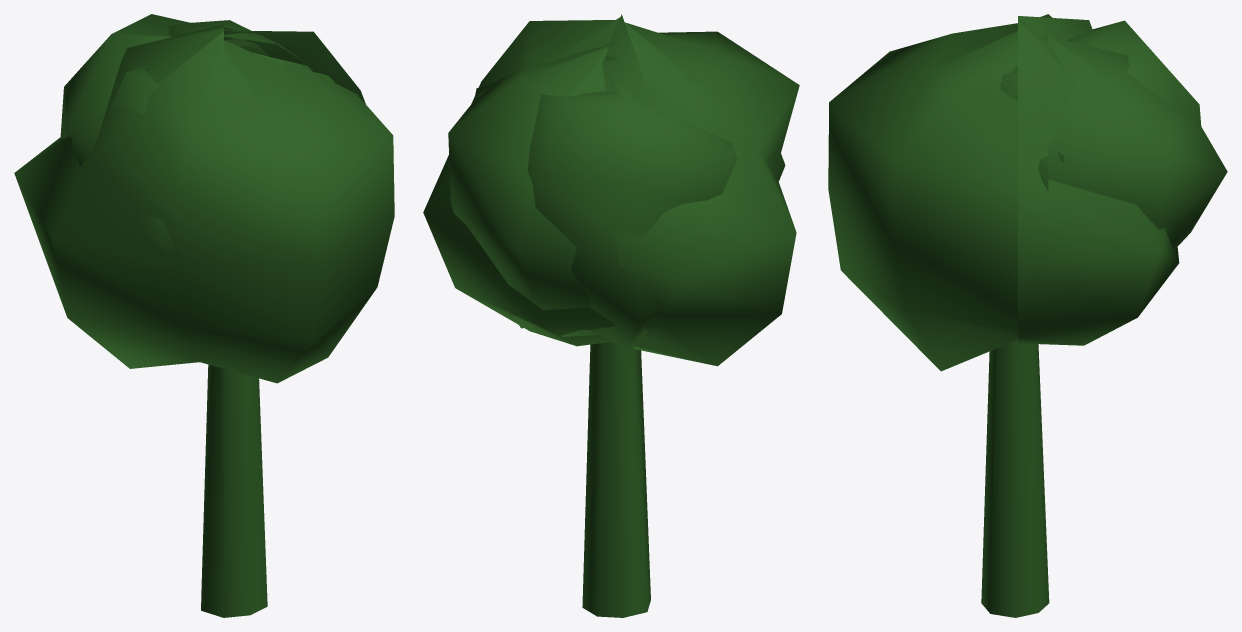
File: tree_yavin_02.obj
The picture shows the model from 3 angles, left to right: view 1: azimuth 30°, elevation 25°; view 2: azimuth 150°, elevation 25°; view 3: azimuth 270°, elevation 25°; orthographic projection. The views are drawn at different scales.
Visible parts, largest first — view 1: tree_yavin_02; view 2: tree_yavin_02; view 3: tree_yavin_02.
Boxes of the visible parts, bbox=[...] form: tree_yavin_02: bbox=[14, 14, 394, 617]; tree_yavin_02: bbox=[423, 14, 799, 617]; tree_yavin_02: bbox=[828, 14, 1227, 617].
Bounding box in the file's own units: 0.6199 × 1.03 × 0.6398.
